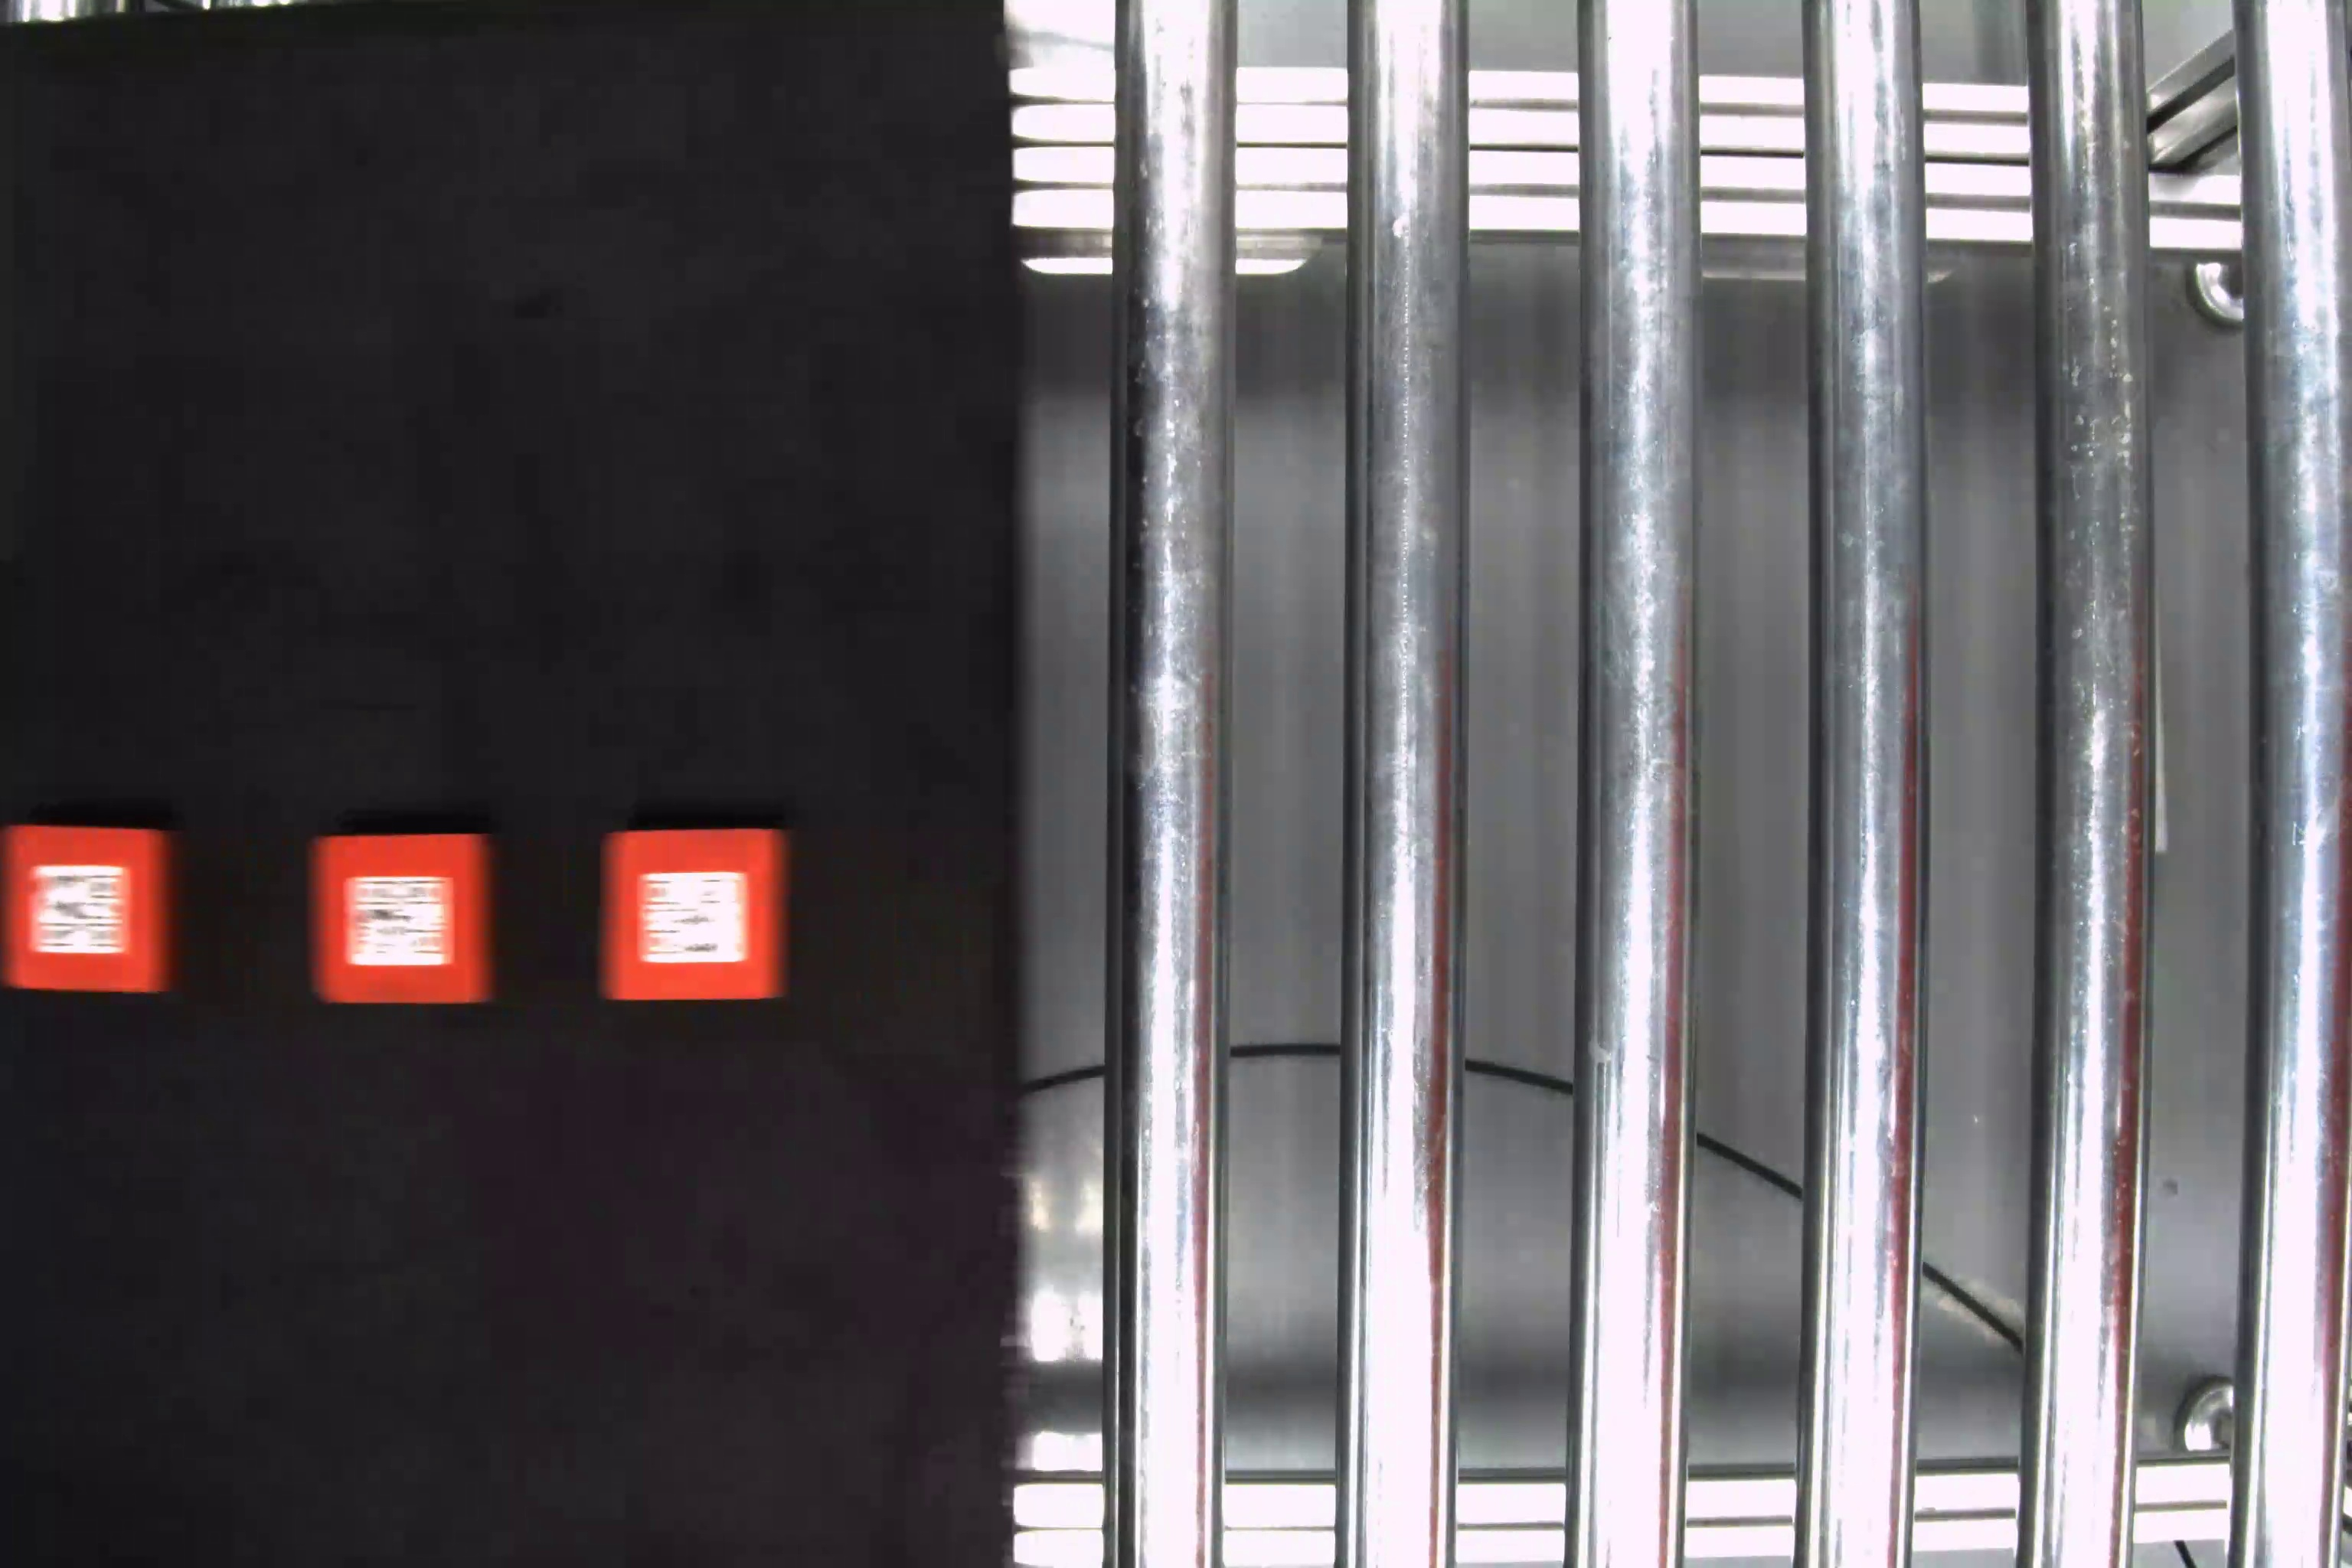wood: (597, 828, 789, 1004), (308, 833, 500, 1006), (2, 821, 187, 996)
